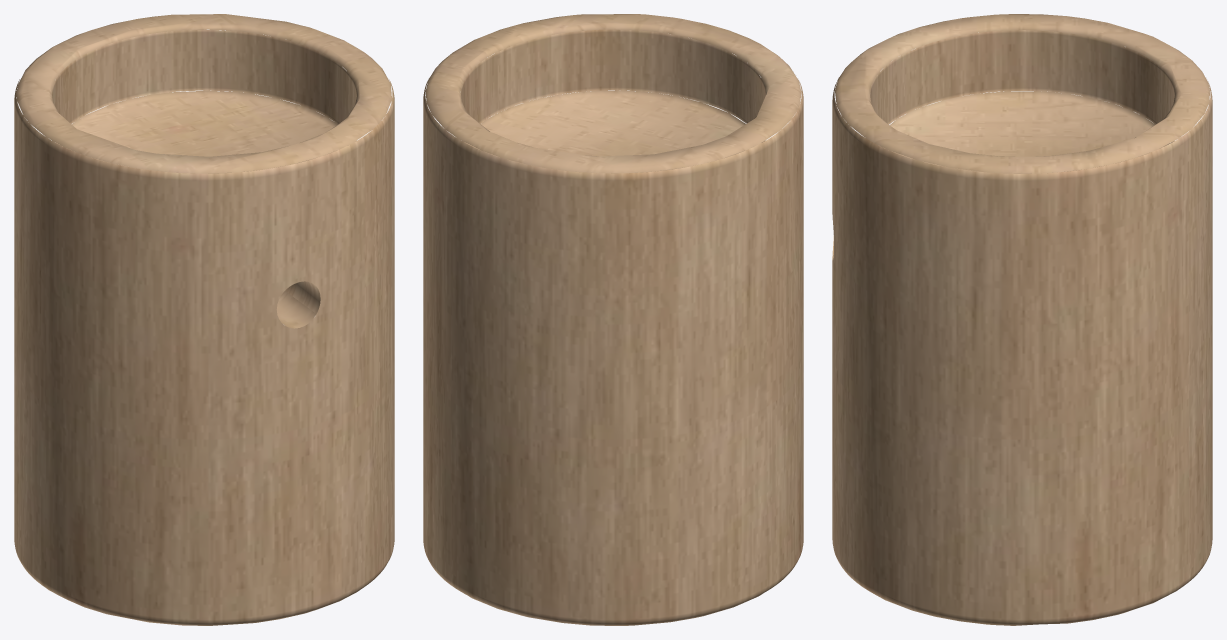
File: cylindra_vez_bily.glb
3 views of the same model, side by side, from view 1: azimuth 30°, elevation 25°; view 2: azimuth 150°, elevation 25°; view 3: azimuth 270°, elevation 25° (orthographic).
Parts seen in each view (by area): view 1: Cylindra_Věž_bílý; view 2: Cylindra_Věž_bílý; view 3: Cylindra_Věž_bílý.
Part boxes in pixels (x1=…): Cylindra_Věž_bílý: x1=14, y1=14, x2=394, y2=625; Cylindra_Věž_bílý: x1=423, y1=14, x2=803, y2=625; Cylindra_Věž_bílý: x1=832, y1=14, x2=1212, y2=625.
Bounding box in the file's own units: 0.03 × 0.04 × 0.03.
2 materials, 2 textured.
